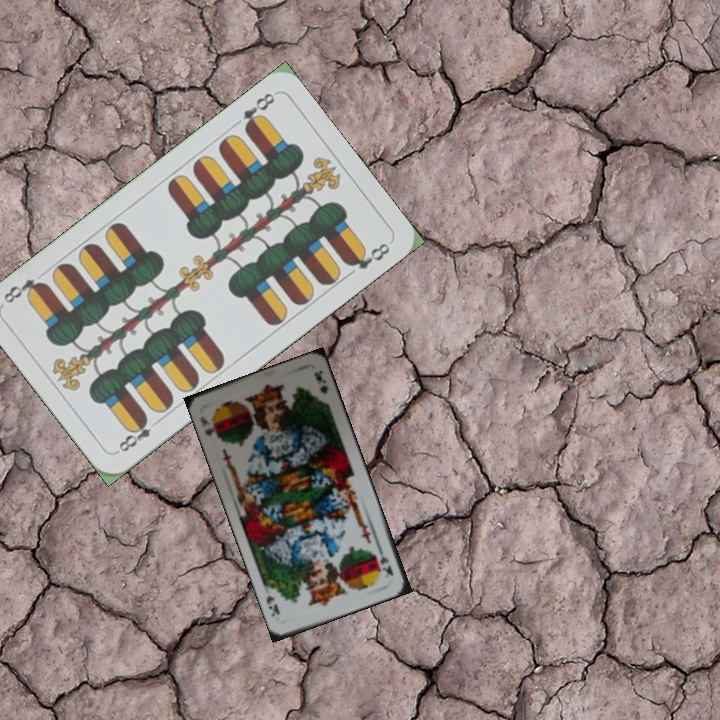E8: (113, 413, 164, 456), (238, 88, 278, 135)
SK: (374, 543, 396, 578), (196, 412, 222, 441)
